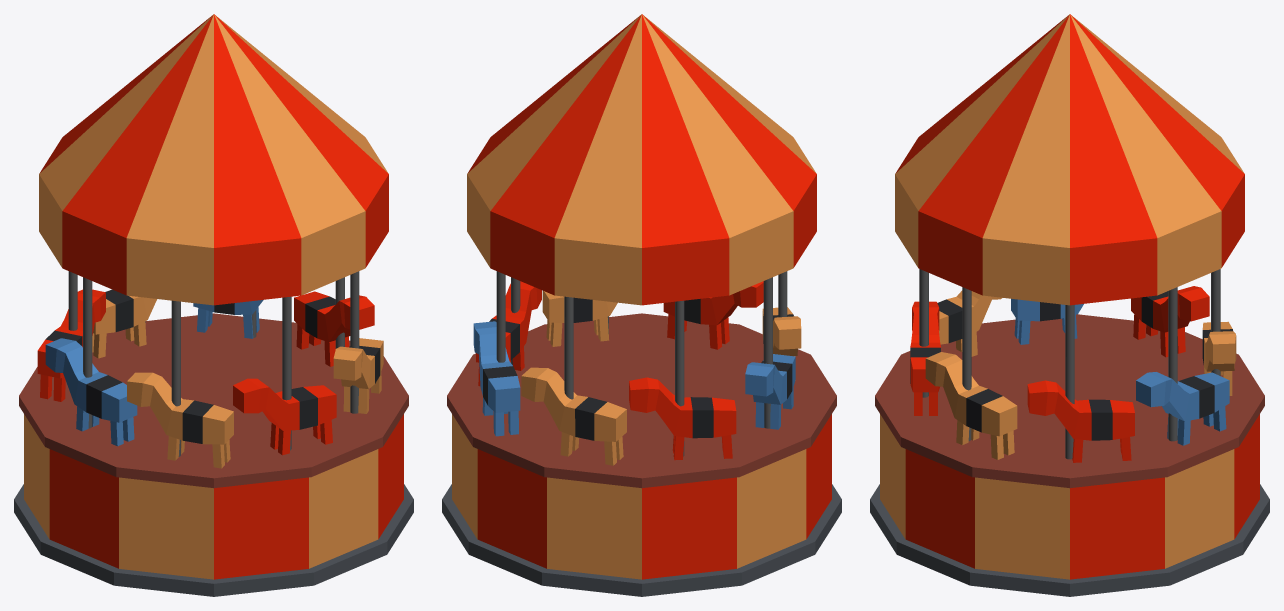
Rendered from Atraction_2.fbx.
3 views of the same model, side by side, from view 1: azimuth 30°, elevation 25°; view 2: azimuth 150°, elevation 25°; view 3: azimuth 270°, elevation 25° (orthographic).
Visible parts, largest first — view 1: Atraction_2; view 2: Atraction_2; view 3: Atraction_2.
Boxes of the visible parts, x1,y1,x2,y2 form: Atraction_2: (14, 14, 413, 596); Atraction_2: (442, 14, 841, 596); Atraction_2: (870, 14, 1269, 596).
Size of the model in its own units: 361 by 497 by 361.
